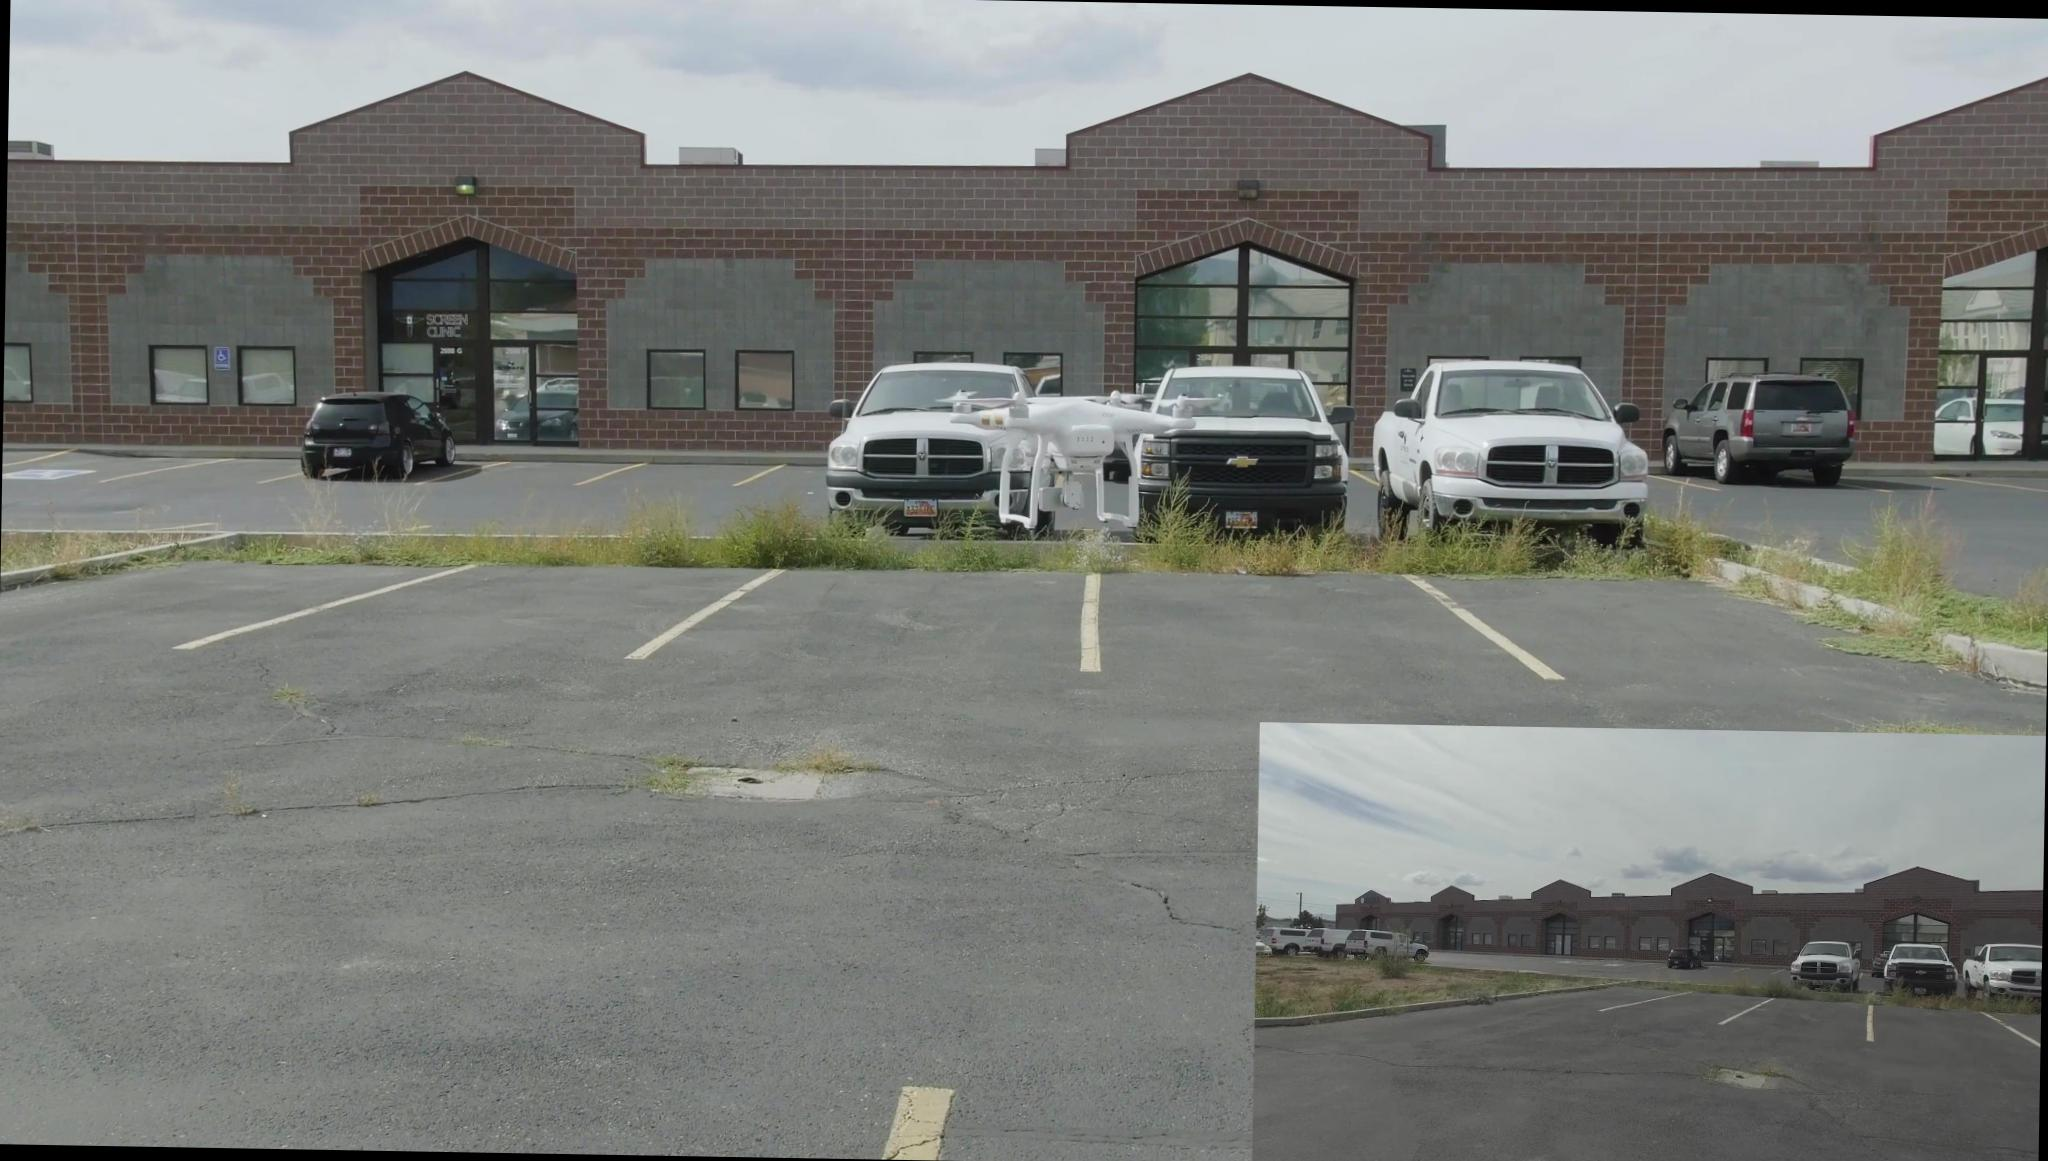drone: (940, 380, 1204, 529)
